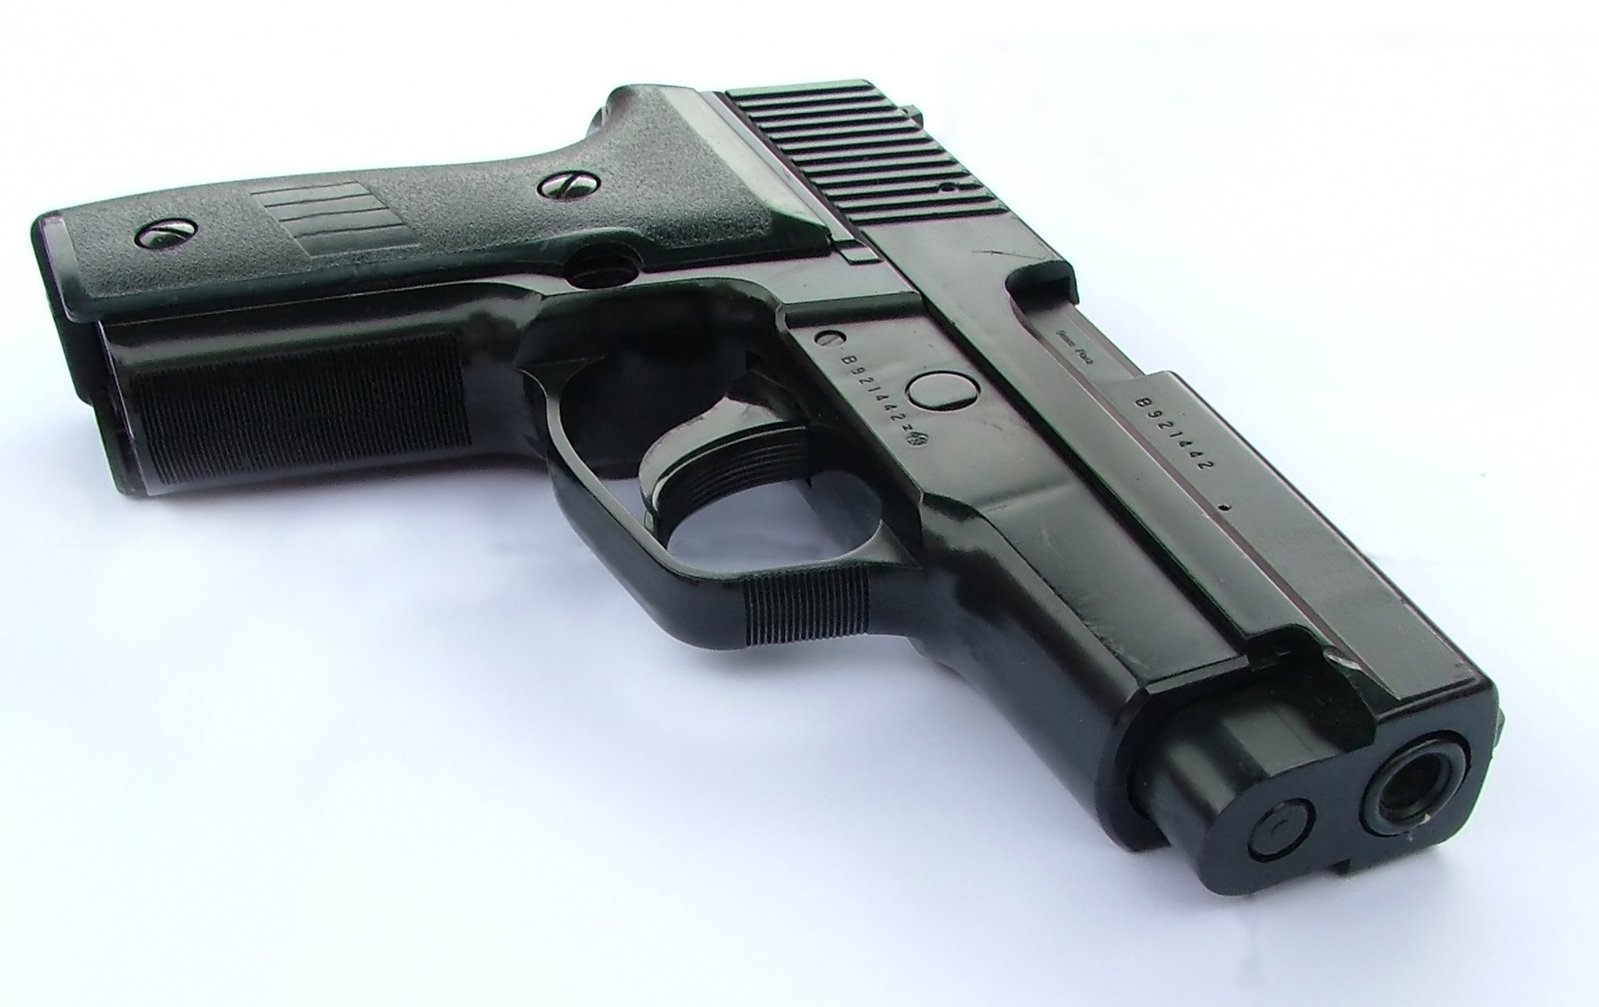gun: (30, 74, 1507, 907)
